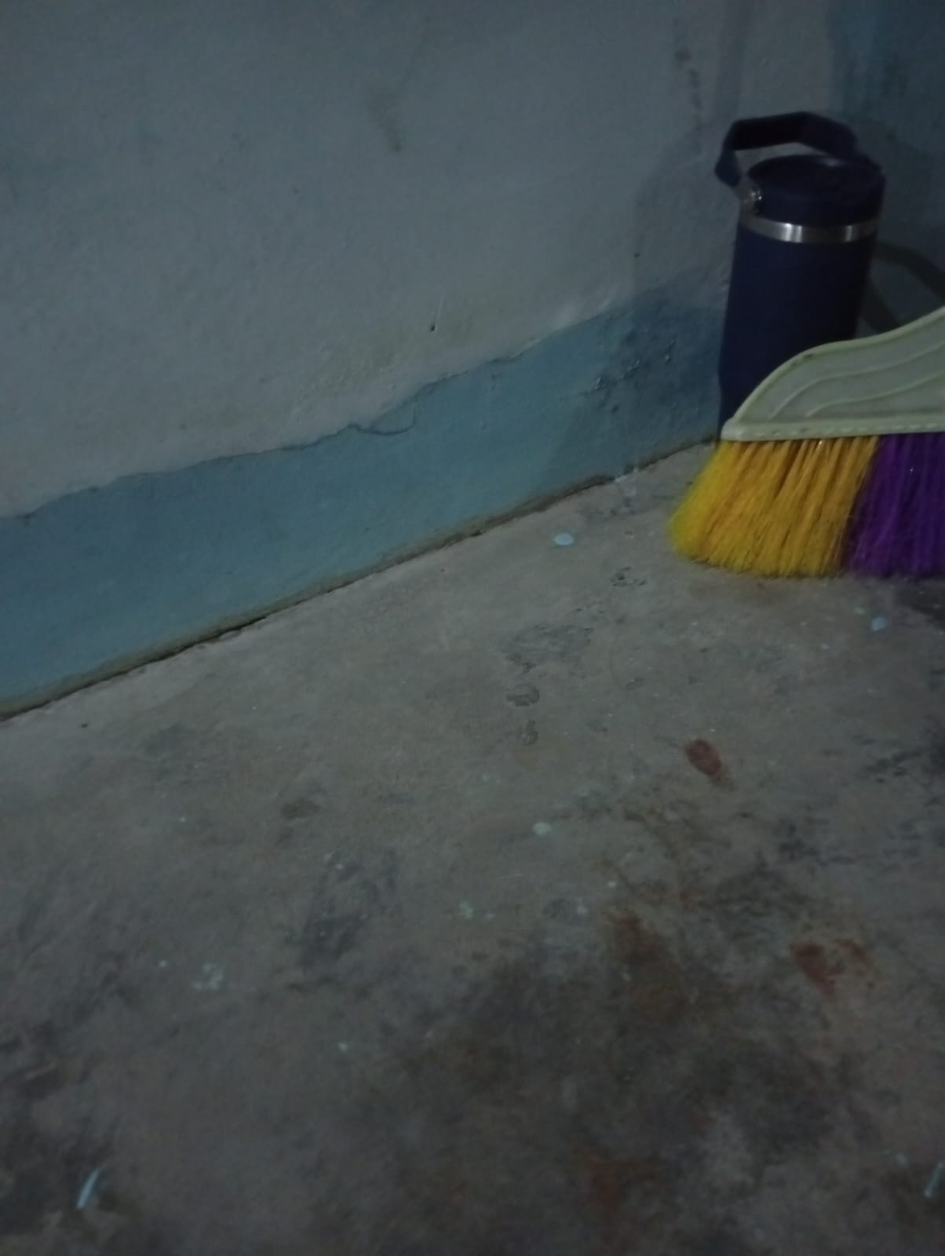Tupperware: (687, 95, 890, 469)
